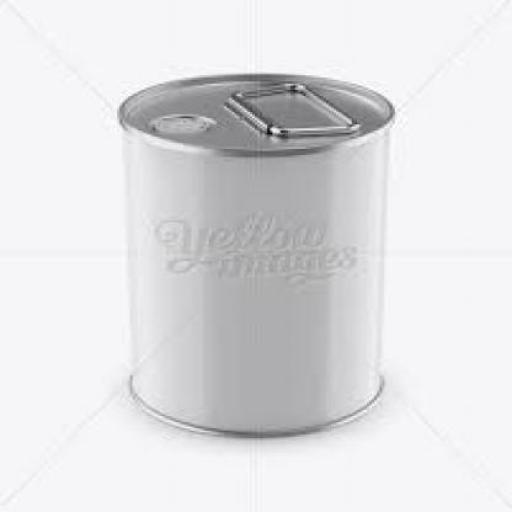metal: (114, 71, 392, 437)
